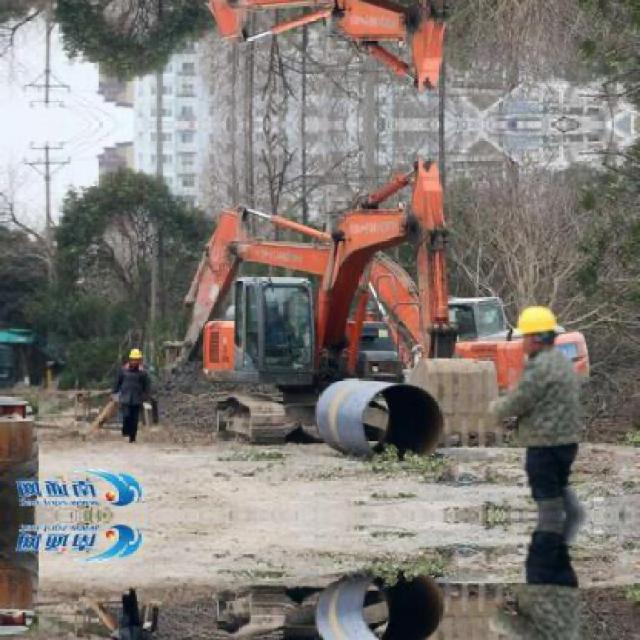helmet: (514, 303, 558, 354), (131, 345, 143, 366)
